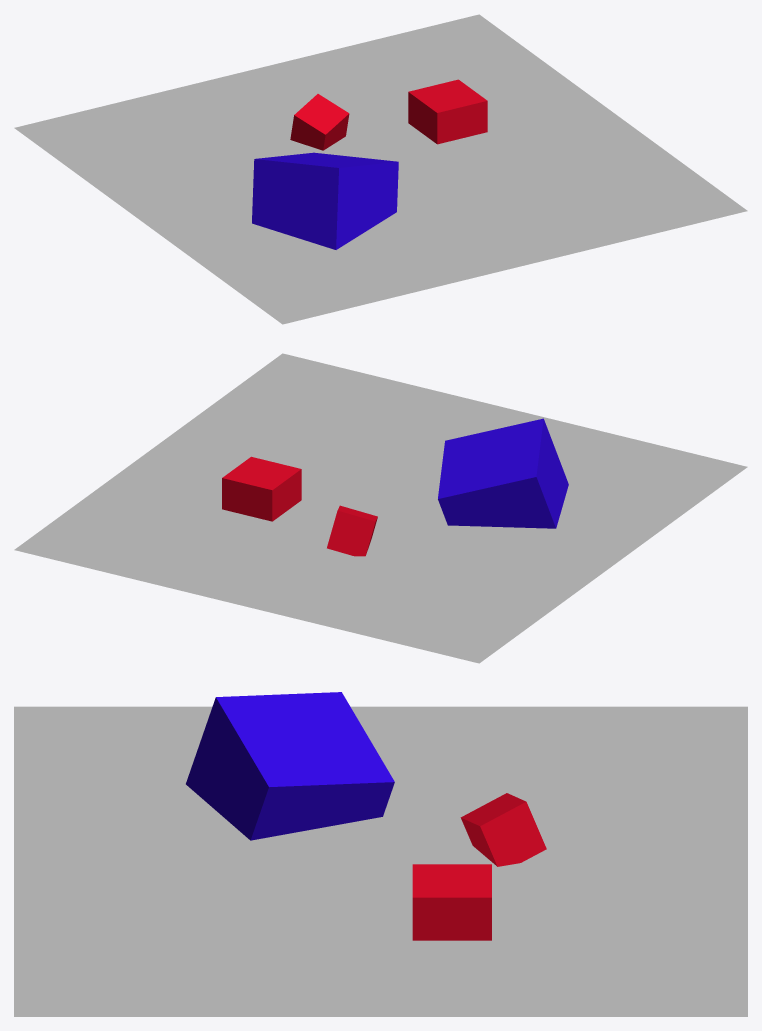
The picture shows the model from 3 angles, top to bottom: view 1: azimuth 30°, elevation 25°; view 2: azimuth 150°, elevation 25°; view 3: azimuth 270°, elevation 25°; orthographic projection. The views are drawn at different scales.
Visible parts, largest first — view 1: Plane, Cube.002, Cube.001, Cube; view 2: Plane, Cube.002, Cube.001, Cube; view 3: Plane, Cube.002, Cube.001, Cube.
Boxes of the visible parts, x1=… form: Plane: x1=14, y1=14, x2=747, y2=324; Cube.002: x1=252, y1=152, x2=398, y2=249; Cube.001: x1=408, y1=79, x2=487, y2=144; Cube: x1=290, y1=94, x2=349, y2=150; Plane: x1=14, y1=353, x2=747, y2=663; Cube.002: x1=438, y1=418, x2=568, y2=528; Cube.001: x1=222, y1=456, x2=301, y2=521; Cube: x1=327, y1=505, x2=377, y2=556; Plane: x1=14, y1=706, x2=747, y2=1016; Cube.002: x1=186, y1=692, x2=394, y2=840; Cube.001: x1=412, y1=864, x2=491, y2=940; Cube: x1=460, y1=793, x2=546, y2=866.
Size of the model in its own units: 27.17 by 7.32 by 27.17.
